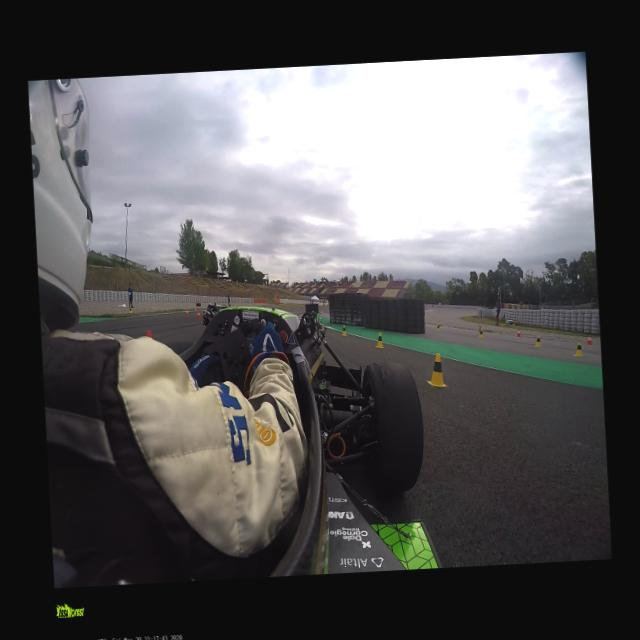orange_cone: (586, 335, 592, 346), (146, 330, 152, 338), (516, 330, 521, 338), (185, 308, 189, 316), (197, 312, 200, 320), (194, 308, 197, 312)
yellow_cone: (426, 353, 448, 388), (572, 341, 584, 359), (374, 331, 384, 349), (533, 335, 542, 348), (340, 324, 347, 336), (479, 329, 484, 338), (436, 323, 440, 332), (128, 306, 132, 314)
